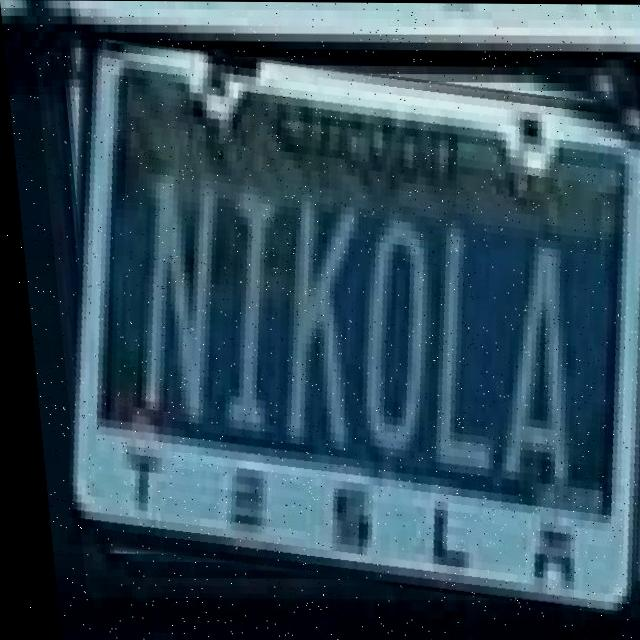LicensePlate: (34, 52, 640, 601)
